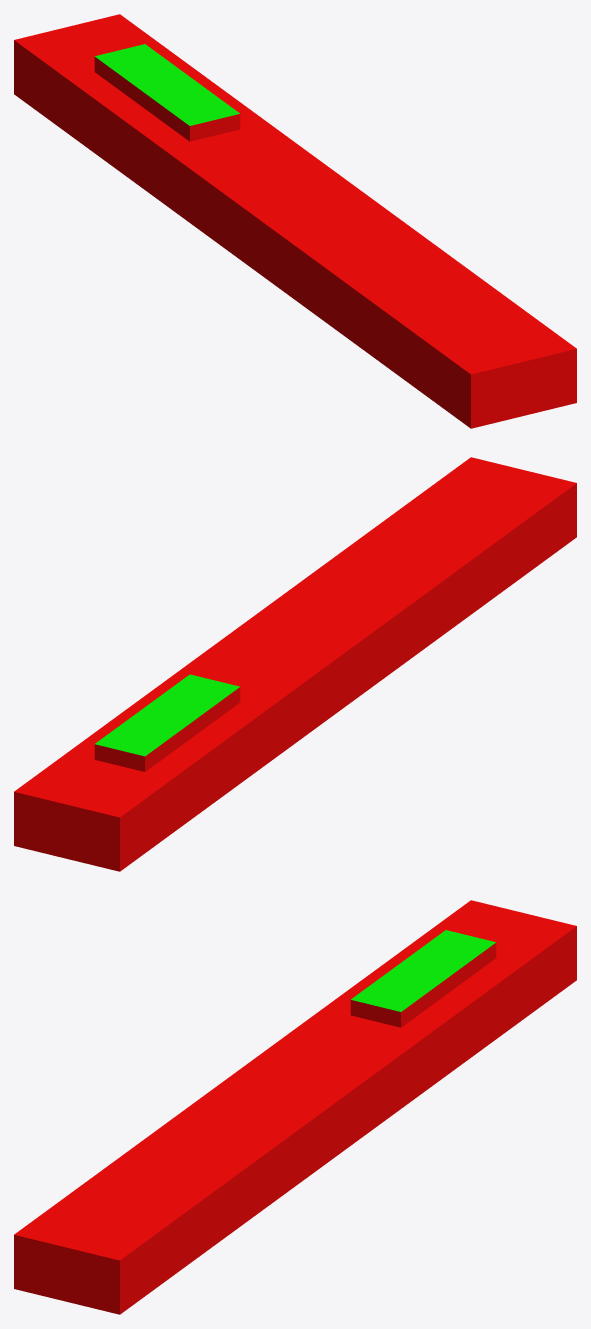
Rendered from labeled.obj.
3 renders of one model, top to bottom at view 1: azimuth 30°, elevation 25°; view 2: azimuth 150°, elevation 25°; view 3: azimuth 330°, elevation 25°, orthographic.
Size of the model in its own units: 0.0198 by 0.0125 by 0.1481.
